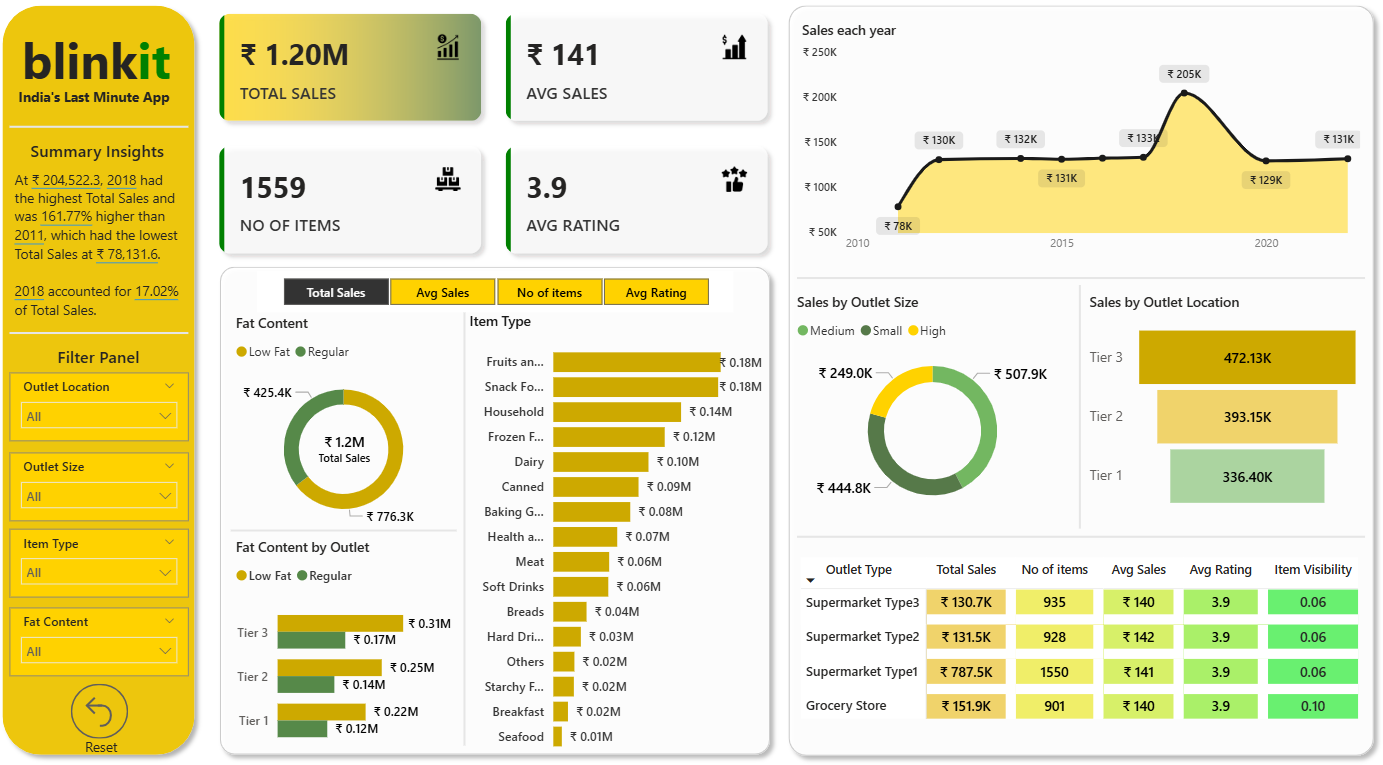

What the dashboard file says about the page in this screenshot:
{"tool":"powerbi","page":{"name":"Page 1","canvas":[1400,800],"ordinal":0},"visuals":[{"type":"shape","box":[25.5,25.5,205.6,750.4],"z":0},{"type":"textbox","box":[42,49.5,169.6,76.5],"z":1000},{"type":"textbox","box":[45,109.6,166.6,34.5],"z":2000},{"type":"cardVisual","fields":{"Data":["BlinkIT Grocery Data.Total Sales","BlinkIT Grocery Data.Avg Sales","BlinkIT Grocery Data.No of items","BlinkIT Grocery Data.Avg Rating"]},"box":[230.2,25.1,570.1,269.8],"z":3000},{"type":"shape","box":[238.1,280.4,555.6,494.7],"z":4000},{"type":"donutChart","title":"Fat Content","fields":{"Y":["BlinkIT Grocery Data.Total Sales"],"Category":["BlinkIT Grocery Data.Item Fat Content"]},"box":[257.9,336,220.9,219.6],"z":5000},{"type":"slicer","fields":{"Values":["Metrics.Metrics"]},"box":[283.1,295,465.6,39.7],"z":6000},{"type":"cardVisual","fields":{"Data":["BlinkIT Grocery Data.Total Sales"]},"box":[321.4,431.2,95.2,72.8],"z":7000},{"type":"clusteredBarChart","title":"Fat Content by Outlet","fields":{"Y":["BlinkIT Grocery Data.Total Sales"],"Series":["BlinkIT Grocery Data.Item Fat Content"],"Category":["BlinkIT Grocery Data.Outlet Location Type"]},"box":[257.9,554.2,220.9,219.6],"z":8000},{"type":"shape","box":[257.9,541,220.9,13.2],"z":9000},{"type":"shape","box":[478.8,334.7,14.6,423.3],"z":10000},{"type":"barChart","title":"Item Type","fields":{"Y":["BlinkIT Grocery Data.Total Sales"],"Category":["BlinkIT Grocery Data.Item Type"]},"box":[486.8,333.3,296.3,440.5],"z":11000},{"type":"shape","box":[793.7,25.1,590,751.3],"z":12000},{"type":"lineChart","title":"Sales each year","fields":{"Category":["BlinkIT Grocery Data.Outlet Establishment Year"],"Y":["BlinkIT Grocery Data.Total Sales"]},"box":[810.9,48.9,555.6,235.5],"z":13000},{"type":"shape","box":[810.9,295,555.6,13.2],"z":14000},{"type":"donutChart","title":"Sales by Outlet Size","fields":{"Y":["BlinkIT Grocery Data.Total Sales"],"Category":["BlinkIT Grocery Data.Outlet Size"]},"box":[806.9,314.8,275.1,224.9],"z":15000},{"type":"shape","box":[1082,308.2,10.6,238.1],"z":16000},{"type":"funnel","title":"Sales by Outlet Location","fields":{"Category":["BlinkIT Grocery Data.Outlet Location Type"],"Y":["Sum(BlinkIT Grocery Data.Sales)"]},"box":[1092.6,314.8,275.1,224.9],"z":17000},{"type":"shape","box":[810.9,547.6,555.6,13.2],"z":18000},{"type":"pivotTable","title":"Outlet Type","fields":{"Rows":["BlinkIT Grocery Data.Outlet Type"],"Values":["BlinkIT Grocery Data.Total Sales","BlinkIT Grocery Data.No of items","BlinkIT Grocery Data.Avg Sales","BlinkIT Grocery Data.Avg Rating","Avg(BlinkIT Grocery Data.Item Visibility)"]},"box":[809.5,568.8,556.9,174.6],"z":19000},{"type":"slicer","fields":{"Values":["BlinkIT Grocery Data.Outlet Location Type"]},"box":[41.1,393.8,174.9,67.6],"z":21000},{"type":"slicer","fields":{"Values":["BlinkIT Grocery Data.Outlet Size"]},"box":[41.1,471.7,174.9,67.6],"z":22000},{"type":"slicer","fields":{"Values":["BlinkIT Grocery Data.Item Type"]},"box":[41.1,546.6,174.9,67.6],"z":23000},{"type":"textbox","box":[44.1,361.5,169,32.3],"z":24000},{"type":"slicer","fields":{"Values":["BlinkIT Grocery Data.Item Fat Content"]},"box":[41.1,623,174.9,67.6],"z":25000},{"type":"actionButton","box":[101.4,697.6,56.2,53.8],"z":26000},{"type":"actionButton","box":[108.7,705,48.9,40.3],"z":27000},{"type":"textbox","box":[41.1,191,174.9,164.6],"z":28000},{"type":"textbox","box":[42.6,160.2,169,32.3],"z":29000},{"type":"shape","box":[41.1,146.9,174.9,13.2],"z":30000},{"type":"shape","box":[41.1,348.2,174.9,13.2],"z":31000},{"type":"textbox","box":[101.9,744.7,59.5,38.4],"z":32000}]}

Visuals, with their boxes on the page's 1400x800 design canvas (x1, y1, x2, y2). These are canvas units, not pixel positions in the 1383x765 screenshot, which may show the page scaled, cropped or inside an application window:
shape: Rect(26, 26, 231, 776)
textbox: Rect(42, 50, 212, 126)
textbox: Rect(45, 110, 212, 144)
cardVisual - BlinkIT Grocery Data.Total Sales x BlinkIT Grocery Data.Avg Sales: Rect(230, 25, 800, 295)
shape: Rect(238, 280, 794, 775)
"Fat Content" donutChart: Rect(258, 336, 479, 556)
slicer - Metrics.Metrics: Rect(283, 295, 749, 335)
cardVisual - BlinkIT Grocery Data.Total Sales: Rect(321, 431, 417, 504)
"Fat Content by Outlet" clusteredBarChart: Rect(258, 554, 479, 774)
shape: Rect(258, 541, 479, 554)
shape: Rect(479, 335, 493, 758)
"Item Type" barChart: Rect(487, 333, 783, 774)
shape: Rect(794, 25, 1384, 776)
"Sales each year" lineChart: Rect(811, 49, 1366, 284)
shape: Rect(811, 295, 1366, 308)
"Sales by Outlet Size" donutChart: Rect(807, 315, 1082, 540)
shape: Rect(1082, 308, 1093, 546)
"Sales by Outlet Location" funnel: Rect(1093, 315, 1368, 540)
shape: Rect(811, 548, 1366, 561)
"Outlet Type" pivotTable: Rect(810, 569, 1366, 743)
slicer - BlinkIT Grocery Data.Outlet Location Type: Rect(41, 394, 216, 461)
slicer - BlinkIT Grocery Data.Outlet Size: Rect(41, 472, 216, 539)
slicer - BlinkIT Grocery Data.Item Type: Rect(41, 547, 216, 614)
textbox: Rect(44, 362, 213, 394)
slicer - BlinkIT Grocery Data.Item Fat Content: Rect(41, 623, 216, 691)
actionButton: Rect(101, 698, 158, 751)
actionButton: Rect(109, 705, 158, 745)
textbox: Rect(41, 191, 216, 356)
textbox: Rect(43, 160, 212, 192)
shape: Rect(41, 147, 216, 160)
shape: Rect(41, 348, 216, 361)
textbox: Rect(102, 745, 161, 783)
